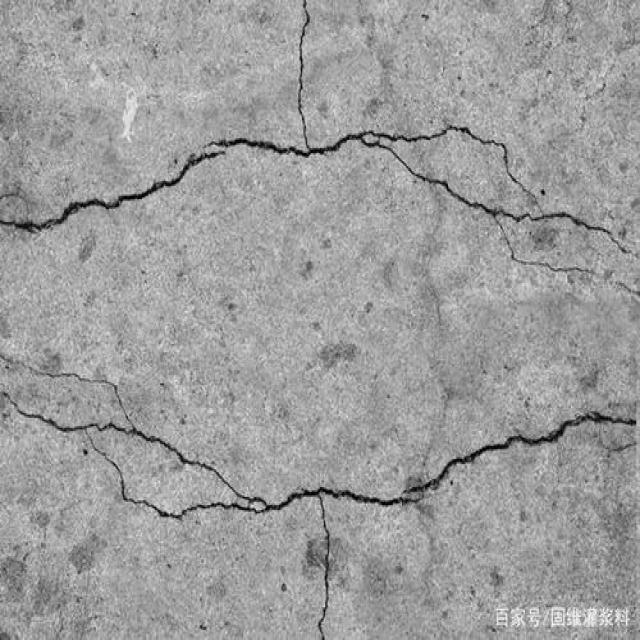wall_crack: (364, 138, 629, 254), (87, 436, 318, 524), (314, 484, 399, 640), (402, 435, 549, 495), (311, 123, 464, 164), (114, 151, 223, 206), (4, 390, 136, 434), (495, 216, 596, 273), (0, 348, 118, 386), (464, 123, 527, 194), (0, 197, 111, 230), (292, 1, 316, 146), (205, 132, 308, 161), (555, 409, 640, 440), (0, 184, 27, 204), (608, 438, 635, 458), (617, 280, 640, 302)
